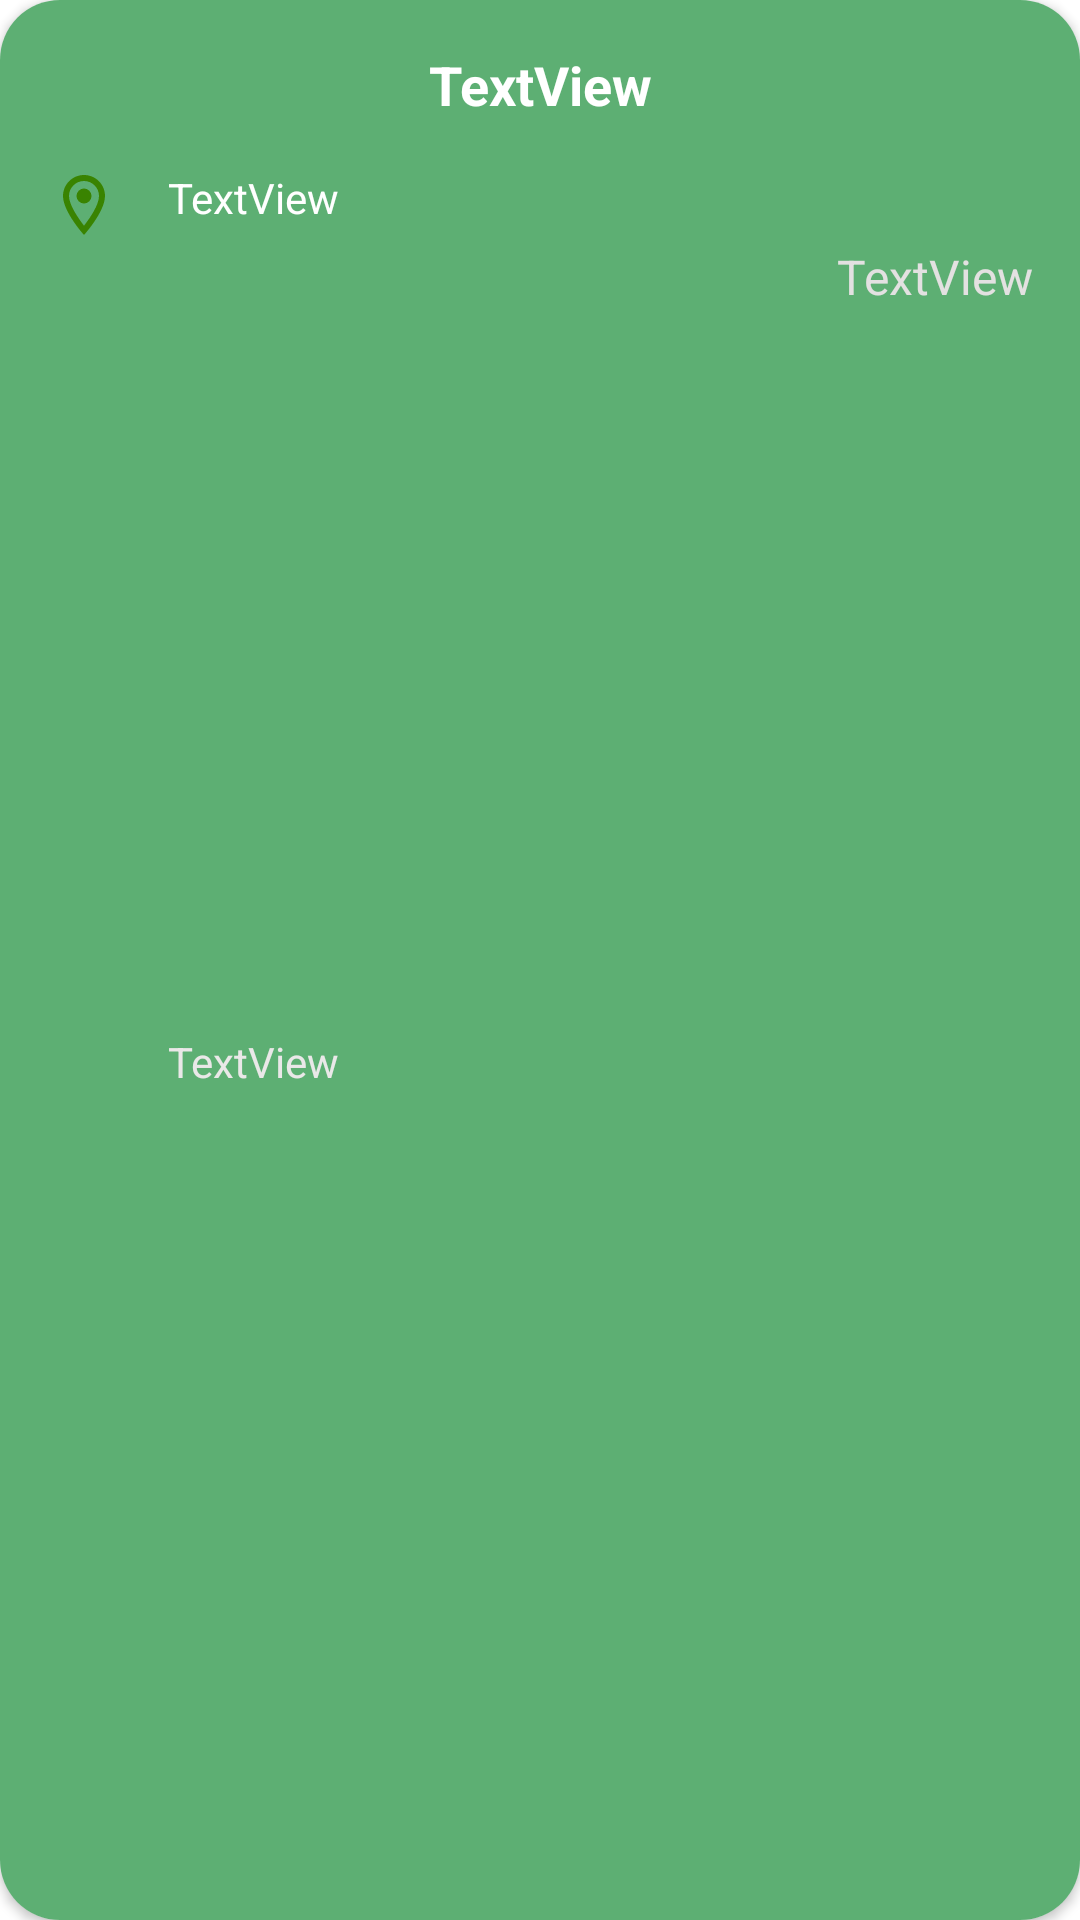

Icon click points for this 1080*1920 phone screenshot, format (x,y):
location on: (84,205)
